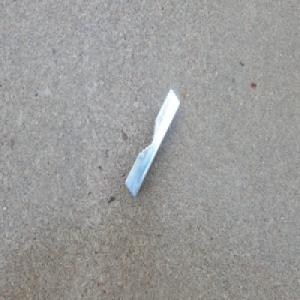ClampPart: (124, 88, 180, 198)
